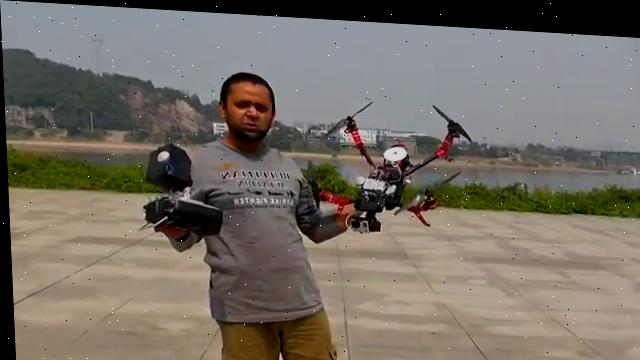drone: (301, 88, 477, 235)
